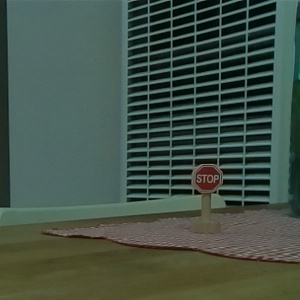stop sign: (188, 161, 224, 236)
